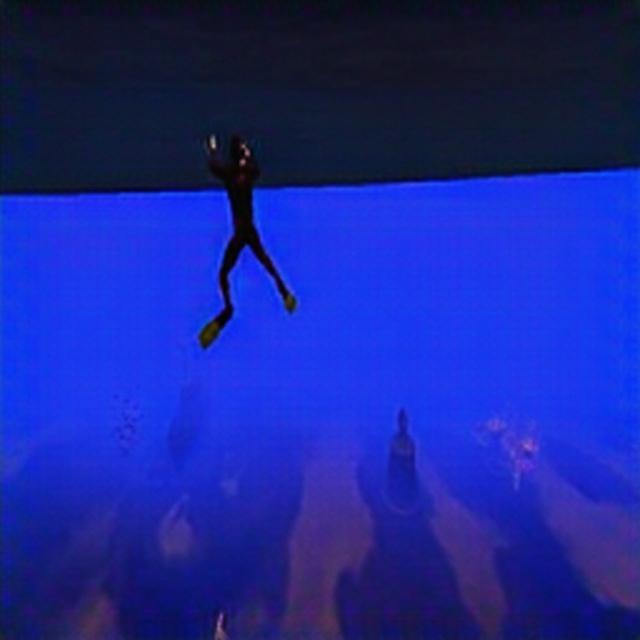diver: (205, 132, 296, 328)
